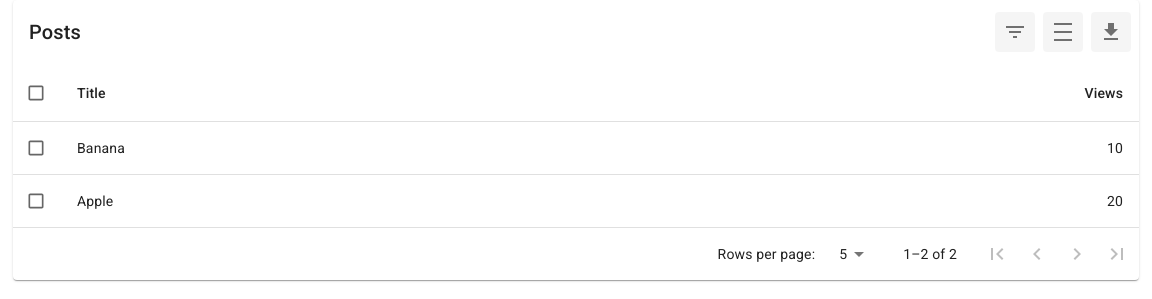
Test: DataTable › hides a column via the toolbar column-visibility menu
Click the button named "columns visibility" at (1015, 32), box [995,12,1035,52]
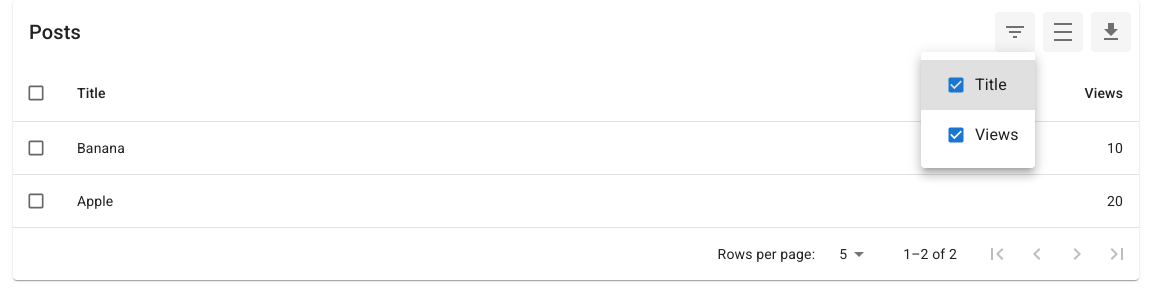
Click the menu item "Views" at (982, 135), box [946,125,1019,145]
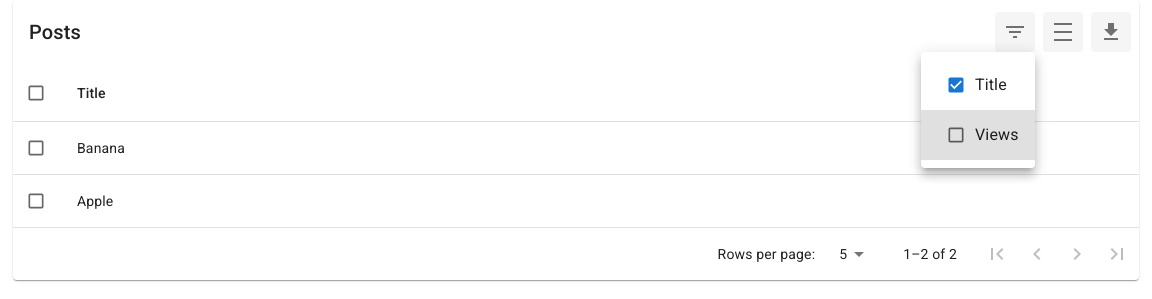
Expected: the column heading "Banana" is shown, [61,122,1139,175]
Result: the text "10" is gone
Result: the text "20" is gone
